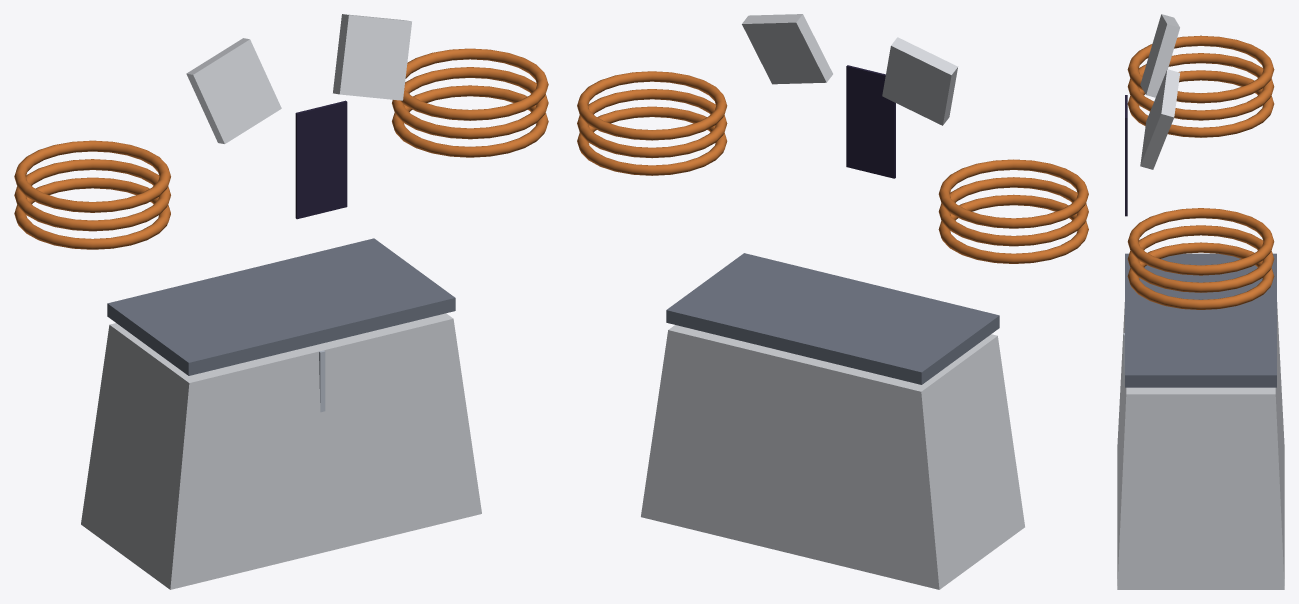
Rendered from eqf_eqgw0.glb.
3 renders of one model, left to right at view 1: azimuth 30°, elevation 25°; view 2: azimuth 150°, elevation 25°; view 3: azimuth 270°, elevation 25°, orthographic. The views are drawn at different scales.
Size of the model in its own units: 4.08 by 3.84 by 1.23.
